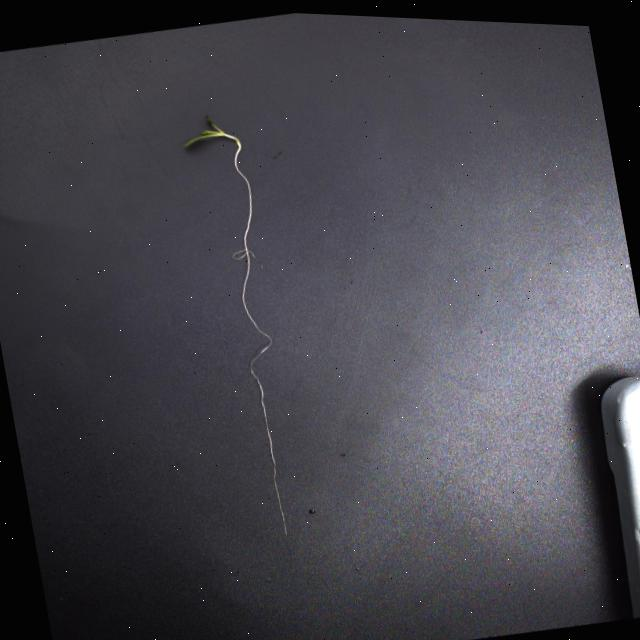leaf: (181, 134, 211, 146), (205, 114, 218, 129), (198, 130, 211, 133)
root: (241, 253, 286, 535), (230, 151, 251, 259)
stem: (212, 128, 239, 151)
